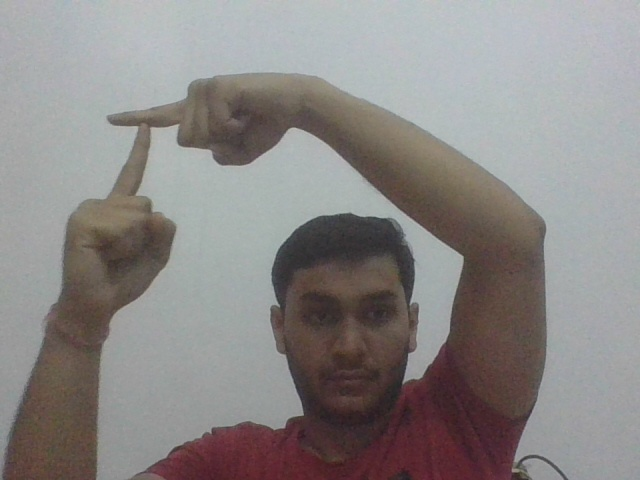T: (99, 100, 177, 196)
